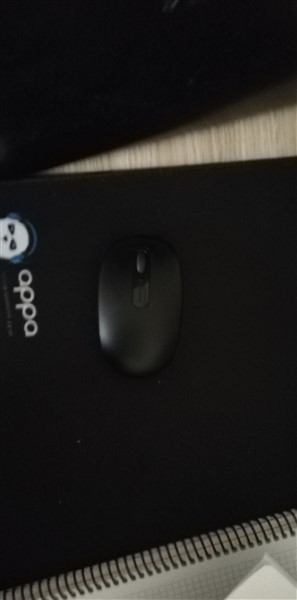mouse: (87, 228, 198, 385)
